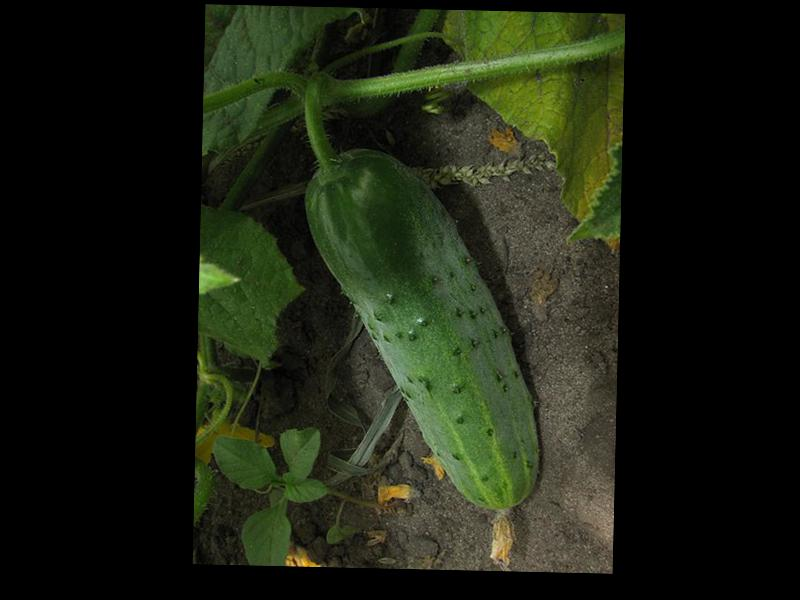Cucumber: (297, 148, 548, 566)
